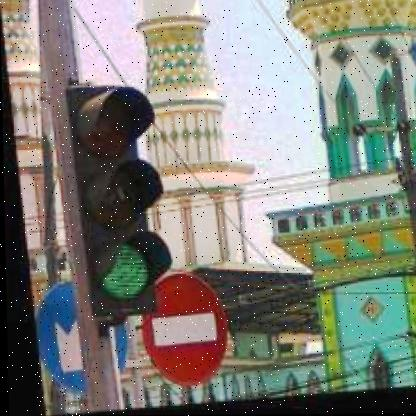Traffic Light -Green-: (65, 80, 170, 315)
